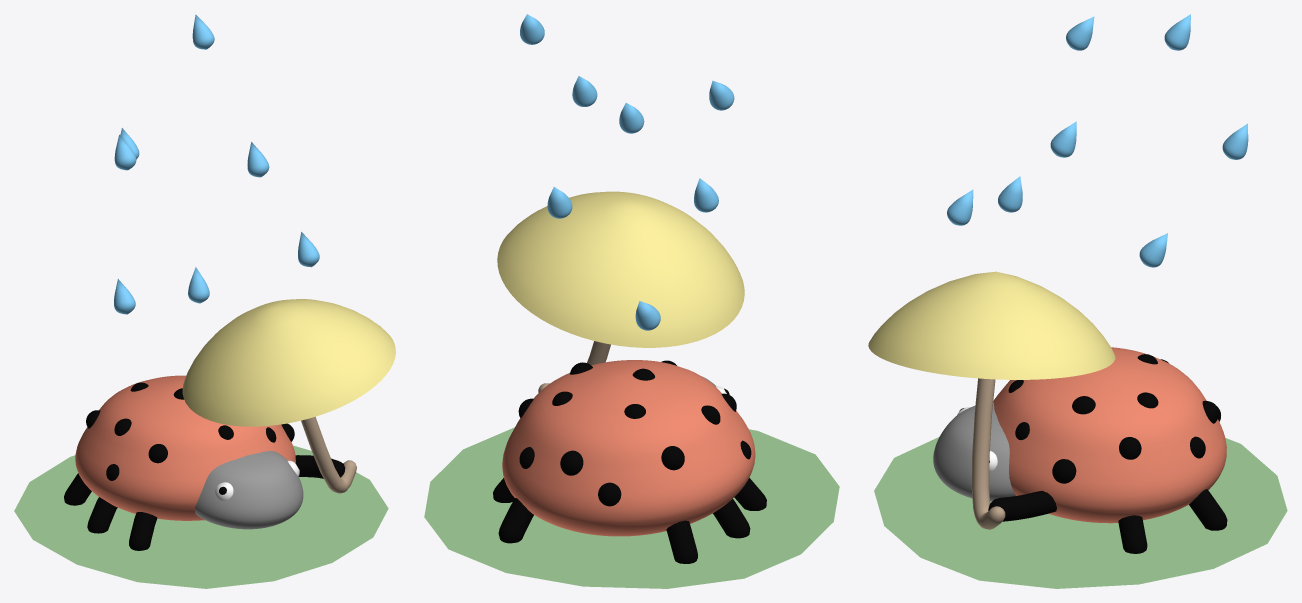
The model's file is ladybug.glb.
3 views of the same model, side by side, from view 1: azimuth 30°, elevation 25°; view 2: azimuth 150°, elevation 25°; view 3: azimuth 270°, elevation 25° (orthographic). The views are drawn at different scales.
Visible parts, largest first — view 1: ladybug; view 2: ladybug; view 3: ladybug.
Part boxes in pixels (x1,y1,x2,y2): ladybug: [14, 14, 395, 588]; ladybug: [424, 14, 839, 588]; ladybug: [868, 14, 1287, 588].
Bounding box in the file's own units: 8.28 × 11.48 × 8.4.
